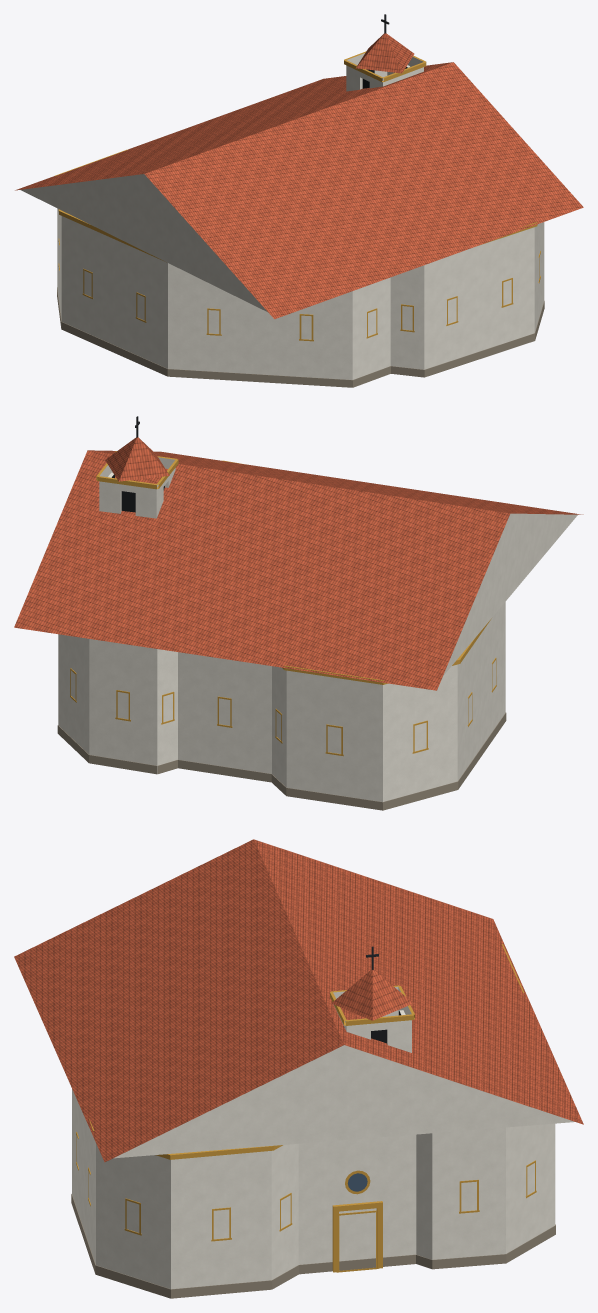
3 renders of one model, top to bottom at view 1: azimuth 30°, elevation 25°; view 2: azimuth 150°, elevation 25°; view 3: azimuth 270°, elevation 25°, orthographic. The views are drawn at different scales.
Parts seen in each view (by area): view 1: B-w1347193501_cubierta, B-w1347193501_muros, B-w1347193501_lejos, B-w1347193501_molduras, B-w1347193501_remates; view 2: B-w1347193501_cubierta, B-w1347193501_lejos, B-w1347193501_muros, B-w1347193501_molduras, B-w1347193501_remates; view 3: B-w1347193501_cubierta, B-w1347193501_muros, B-w1347193501_lejos, B-w1347193501_remates, B-w1347193501_molduras.
Boxes of the visible parts, box(x1,y1,x2,y2) form: B-w1347193501_cubierta: box(15, 62, 583, 319); B-w1347193501_muros: box(57, 209, 543, 379); B-w1347193501_lejos: box(57, 208, 544, 379); B-w1347193501_molduras: box(55, 149, 544, 387); B-w1347193501_remates: box(344, 14, 426, 91); B-w1347193501_cubierta: box(14, 450, 583, 690); B-w1347193501_lejos: box(58, 602, 505, 801); B-w1347193501_muros: box(58, 603, 504, 800); B-w1347193501_molduras: box(57, 460, 506, 810); B-w1347193501_remates: box(96, 416, 178, 518); B-w1347193501_cubierta: box(14, 839, 583, 1162); B-w1347193501_muros: box(72, 1090, 554, 1289); B-w1347193501_lejos: box(72, 1089, 555, 1288); B-w1347193501_remates: box(330, 946, 414, 1272); B-w1347193501_molduras: box(71, 944, 555, 1298).
Bounding box in the file's own units: 39.73 × 23.42 × 39.29.
4 materials, 4 textured.
